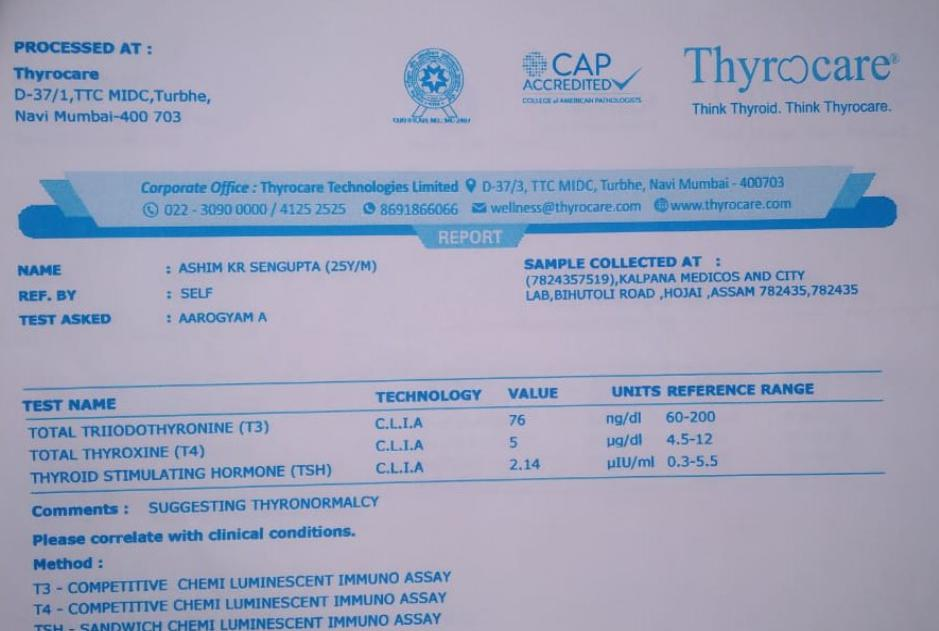Reference Range: (661, 404, 728, 476)
Test Name: (21, 414, 340, 491)
Units: (599, 404, 663, 479)
Value: (501, 406, 553, 481)
